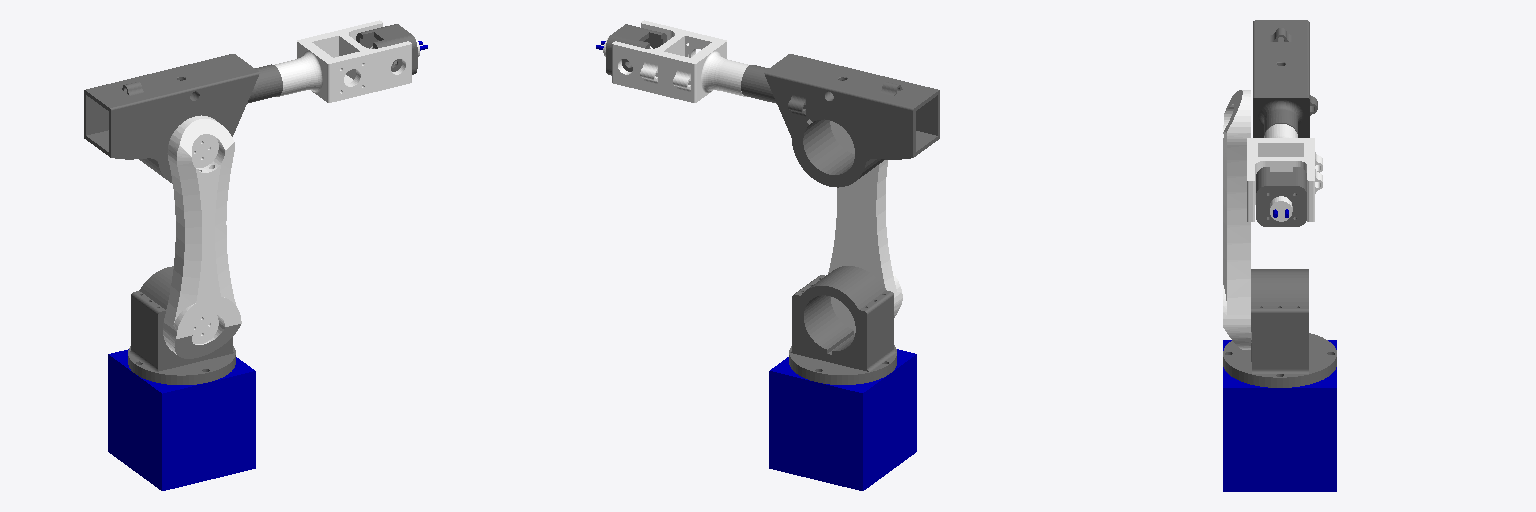
The robot description file, URDF, robot "rafyu6dof":
<?xml version="1.0"?>
<robot name="rafyu6dof">

  <material name="blue">
    <color rgba="0 0 0.8 1"/>
  </material>
  <material name="grey">
    <color rgba="0.5 0.5 0.5 1"/>
  </material>
  <material name="white">
    <color rgba="1 1 1 1"/>
  </material>

      
  <link name="base_link">
    <visual>
      <geometry>
        <box size="1 1 1"/>
      </geometry>
      <origin rpy="0 0 0" xyz="0 0 0"/>
      <material name="blue"/>
    </visual>
  </link>
  
    <link name="shoulder1">
    <visual>
     <geometry>
        <mesh  filename="package://rafyu6dof/meshes/shoulder1.STL" scale="0.01 0.01 0.01"/>
      </geometry>
      <origin rpy="1.571 0 1.571" xyz="-0.5 -0.5 -0.05"/>
      <material name="grey"/>
    </visual>
  </link>
  
 <link name="shoulder2">
    <visual>
     <geometry>
        <mesh  filename="package://rafyu6dof/meshes/shoulder2.STL" scale="0.01 0.01 0.01"/>
      </geometry>
      <origin rpy="1.571 0 1.571" xyz="-0.5 -0.352 -0.05"/>
      <material name="grey"/>
    </visual>
  </link>
  
    <joint name="shoulder1_to_shoulder2" type="fixed">
     <axis xyz="0 0 1"/>
    <parent link="shoulder1"/>
    <child link="shoulder2"/>
    <origin xyz="0 0 0"/>
  </joint>
  
  <joint name="base_to_shoulder" type="revolute">
     <axis xyz="0 0 1"/>
    <limit effort="1000.0" lower="-1.571" upper="1.571" velocity="0.5"/>
    <parent link="base_link"/>
    <child link="shoulder1"/>
    <origin xyz="0 0 0.55"/>
  </joint>
  
  <link name="lower_arm">
    <visual>
     <geometry>
        <mesh  filename="package://rafyu6dof/meshes/lower_arm.STL" scale="0.01 0.01 0.01"/>
      </geometry>
      <origin rpy="1.571 0 0" xyz="-0.35 -0.25 -0.33"/>
      <material name="white"/>
    </visual>
  </link>

  <joint name="shoulder1_to_lower_arm" type="revolute">
     <axis xyz="0 1 0"/>
    <limit effort="1000.0" lower="0.0" upper="1.571" velocity="0.5"/>
    <parent link="shoulder1"/>
    <child link="lower_arm"/>
    <origin xyz="0 0 0.45"/>
  </joint>
  
  <link name="upper_arm">
    <visual>
      <geometry>
        <mesh  filename="package://rafyu6dof/meshes/upper_arm.STL" scale="0.01 0.01 0.01"/>
      </geometry>
      <origin rpy="1.571 0 0" xyz="-0.9 0.33 -0.4"/>
      <material name="grey"/>
    </visual>
  </link>
  
  <joint name="lower_arm_to_upper_arm" type="revolute">
     <axis xyz="0 1 0"/>
    <limit effort="1000.0" lower="-1.571" upper="1.00" velocity="0.5"/>
    <parent link="lower_arm"/>
    <child link="upper_arm"/>
    <origin xyz="0 0 1.8"/>
  </joint>

  <link name="wrist">
    <visual>
      <geometry>
        <mesh  filename="package://rafyu6dof/meshes/wrist.STL" scale="0.01 0.01 0.01"/>
      </geometry>
      <origin rpy="0 0 -1.571" xyz="0 0.37 -0.2"/>
      <material name="white"/>
    </visual>
  </link>
  
  <joint name="upper_arm_to_wrist" type="revolute">
     <axis xyz="1 0 0"/>
    <limit effort="1000.0" lower="-1.571" upper="1.571" velocity="0.5"/>
    <parent link="upper_arm"/>
    <child link="wrist"/>
    <origin xyz="1 0.01 0.34"/>
  </joint>
  
    <link name="hand">
    <visual>
      <geometry>
        <mesh  filename="package://rafyu6dof/meshes/hand.STL" scale="0.01 0.01 0.01"/>
      </geometry>
      <origin rpy="0 0 -1.571" xyz="-0.15 0.23 -0.2"/>
      <material name="grey"/>
    </visual>
  </link>
  
  <joint name="wrist_to_hand" type="revolute">
     <axis xyz="0 1 0"/>
    <limit effort="1000.0" lower="-1.571" upper="1.571" velocity="0.5"/>
    <parent link="wrist"/>
    <child link="hand"/>
    <origin xyz="1.15 0 0"/>
  </joint>
  
    <link name="hand_rotate">
    <visual>
      <geometry>
        <cylinder length="0.1" radius="0.1"/>
      </geometry>
      <origin rpy="0 1.571 0" xyz="0 0 0"/>
      <material name="white"/>
    </visual>
  </link>
  
  <joint name="hand_to_hand_rotate" type="revolute">
     <axis xyz="1 0 0"/>
    <limit effort="1000.0" lower="-1.571" upper="1.571" velocity="0.5"/>
    <parent link="hand"/>
    <child link="hand_rotate"/>
    <origin xyz="0.3 0 0"/>
  </joint>
  
   <link name="grip_1">
    <visual>
      <geometry>
        <cylinder length="0.1" radius="0.02"/>
      </geometry>
      <origin rpy="0 1.571 0" xyz="0 -0.05 -0.1"/>
      <material name="blue"/>
    </visual>
  </link>
  
   <link name="grip_2">
    <visual>
      <geometry>
        <cylinder length="0.1" radius="0.02"/>
      </geometry>
      <origin rpy="0 1.571 0" xyz="0.2 0.05 -0.1"/>
      <material name="blue"/>
    </visual>
  </link>
  
  <joint name="grip_1_extension" type="prismatic">
    <parent link="hand_rotate"/>
    <child link="grip_1"/>
    <limit effort="1000.0" lower="-0.04" upper="0.02" velocity="0.5"/>
    <origin rpy="0 0 0" xyz="0.1 0 0.1"/>
  </joint>
  
  <joint name="grip_2_extension" type="prismatic">
    <parent link="hand_rotate"/>
    <child link="grip_2"/>
    <limit effort="1000.0" lower="-0.02" upper="0.04" velocity="0.5"/>
    <origin rpy="0 0 0" xyz="-0.1 0 0.1"/>
  </joint>
  
  
</robot>

--- Facts derived from the render (not from the file) ---
Views: 3 orthographic renders of the robot side by side, from view 1: azimuth 30°, elevation 25°; view 2: azimuth 150°, elevation 25°; view 3: azimuth 270°, elevation 25°.
Model rafyu6dof with 10 links and 9 joints (6 revolute, 2 prismatic, 1 fixed), rooted at base_link, posed every joint at zero.
Visible links, largest first — view 1: base_link, lower_arm, upper_arm, wrist, shoulder1, shoulder2, hand; view 2: upper_arm, base_link, wrist, shoulder1, lower_arm, shoulder2, hand; view 3: base_link, lower_arm, upper_arm, shoulder1, wrist, shoulder2, hand.
Boxes of the visible links, x1,y1,x2,y2 form: base_link: (108,349,255,490); lower_arm: (163,115,241,358); upper_arm: (84,54,282,183); wrist: (275,20,411,102); shoulder1: (128,313,235,384); shoulder2: (131,266,173,332); hand: (356,24,417,74); upper_arm: (741,54,939,187); base_link: (769,349,916,490); wrist: (612,20,748,102); shoulder1: (789,297,896,384); lower_arm: (828,121,902,333); shoulder2: (792,266,893,331); hand: (606,24,666,75); base_link: (1223,340,1336,491); lower_arm: (1223,90,1250,349); upper_arm: (1253,20,1317,137); shoulder1: (1223,332,1336,387); wrist: (1247,124,1322,221); shoulder2: (1251,269,1308,331); hand: (1256,167,1306,226).
Bounding box of the posed robot: 3.5 × 1 × 3.97 m (x, y, z).
6 mesh visuals loaded from 6 distinct referenced files (6 binary STL).
